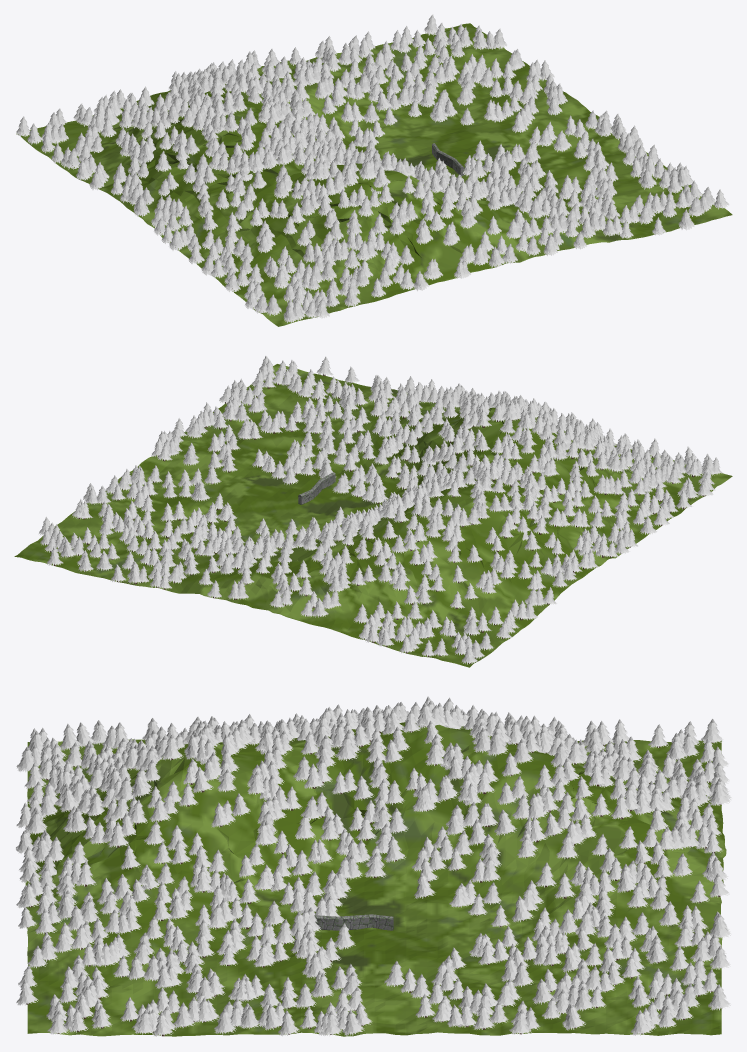
Rendered from Forest Clearing.fbx.
3 renders of one model, top to bottom at view 1: azimuth 30°, elevation 25°; view 2: azimuth 150°, elevation 25°; view 3: azimuth 270°, elevation 25°, orthographic. The views are drawn at different scales.
Visible parts, largest first — view 1: Plane; view 2: Plane; view 3: Plane, Cube.001.
Boxes of the visible parts, left/top/right/bottom form: Plane: left=16, top=23, right=732, bottom=326; Plane: left=14, top=364, right=732, bottom=667; Plane: left=25, top=722, right=726, bottom=1036; Cube.001: left=314, top=914, right=393, bottom=930.
Size of the model in its own units: 27244 by 4837 by 27302.
